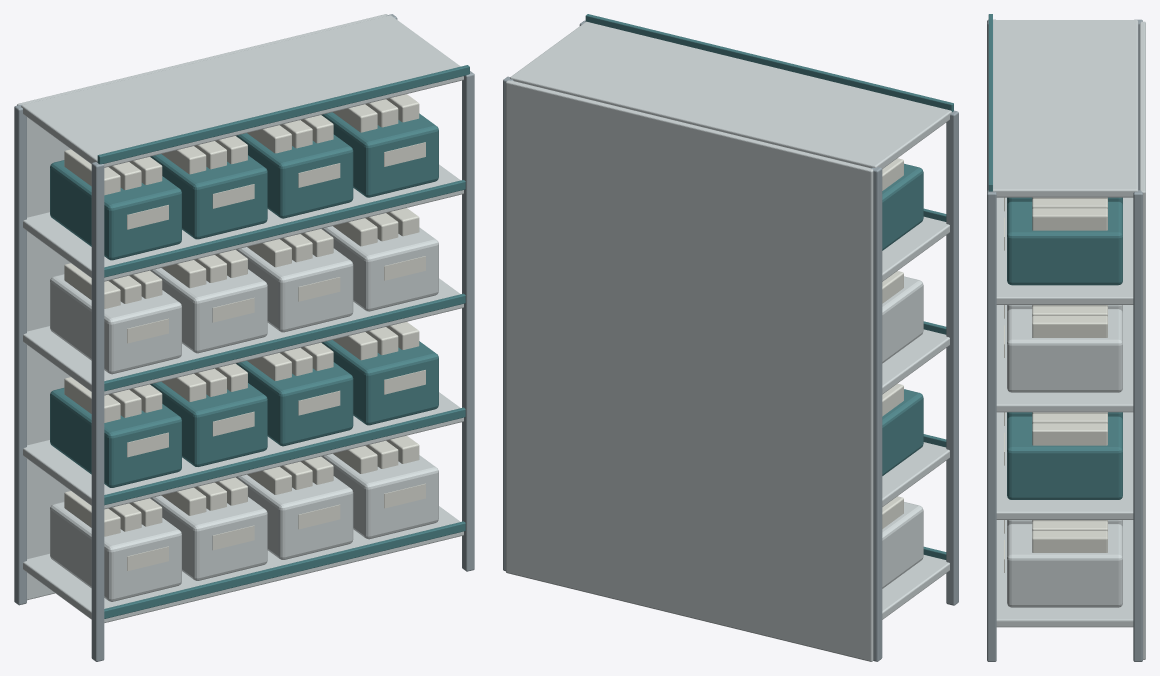
File: RD_SupplyRack.fbx
3 views of the same model, side by side, from view 1: azimuth 30°, elevation 25°; view 2: azimuth 150°, elevation 25°; view 3: azimuth 270°, elevation 25° (orthographic). The views are drawn at different scales.
Visible parts, largest first — view 1: RD_SupplyRack; view 2: RD_SupplyRack; view 3: RD_SupplyRack.
Part boxes in pixels (x1,y1,x2,y2): RD_SupplyRack: [14, 14, 474, 661]; RD_SupplyRack: [503, 14, 958, 661]; RD_SupplyRack: [987, 14, 1145, 661].
Bounding box in the file's own units: 164 × 208 × 62.95.
